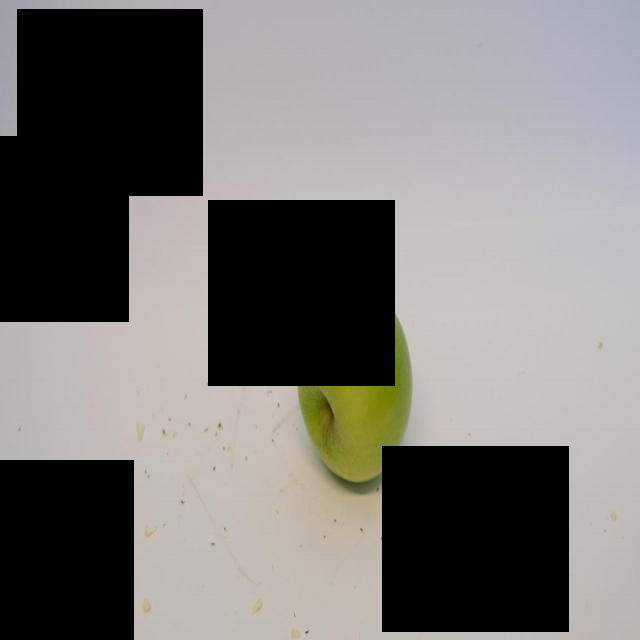apple: (296, 280, 414, 484)
